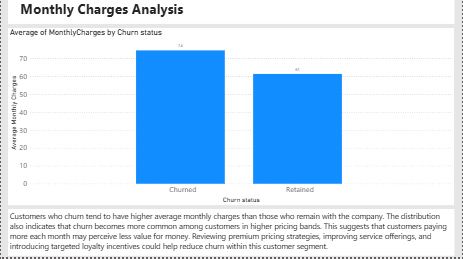

The dashboard page shown, as its layout file describes it:
{"tool":"powerbi","page":{"name":"Monthly Charges Analysis","canvas":[1280,720],"ordinal":3},"visuals":[{"type":"textbox","box":[20,0,1240,72],"z":0},{"type":"textbox","box":[20,585,1240,130],"z":1000},{"type":"clusteredColumnChart","fields":{"Category":["Telco-Customer-Churn-Cleaned.Churn status"],"Y":["Avg(Telco-Customer-Churn-Cleaned.MonthlyCharges)"]},"box":[19.4,83.3,1238.9,491.7],"z":2000}]}

Visuals, with their boxes in screenshot pixels (x1, y1, x2, y2), scaled from the page's 1280x720 canvas onto the 463x259 screenshot:
textbox: box(7, 0, 456, 26)
textbox: box(7, 210, 456, 257)
clusteredColumnChart - Telco-Customer-Churn-Cleaned.Churn status x Avg(Telco-Customer-Churn-Cleaned.MonthlyCharges): box(7, 30, 455, 207)
